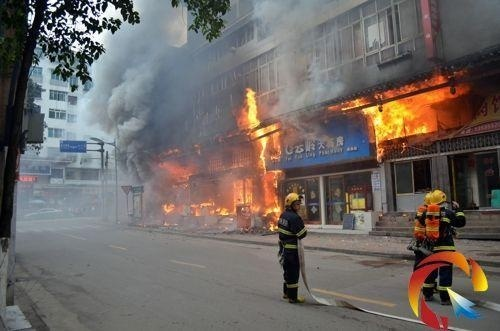fire: (153, 87, 289, 231), (330, 81, 447, 152)
